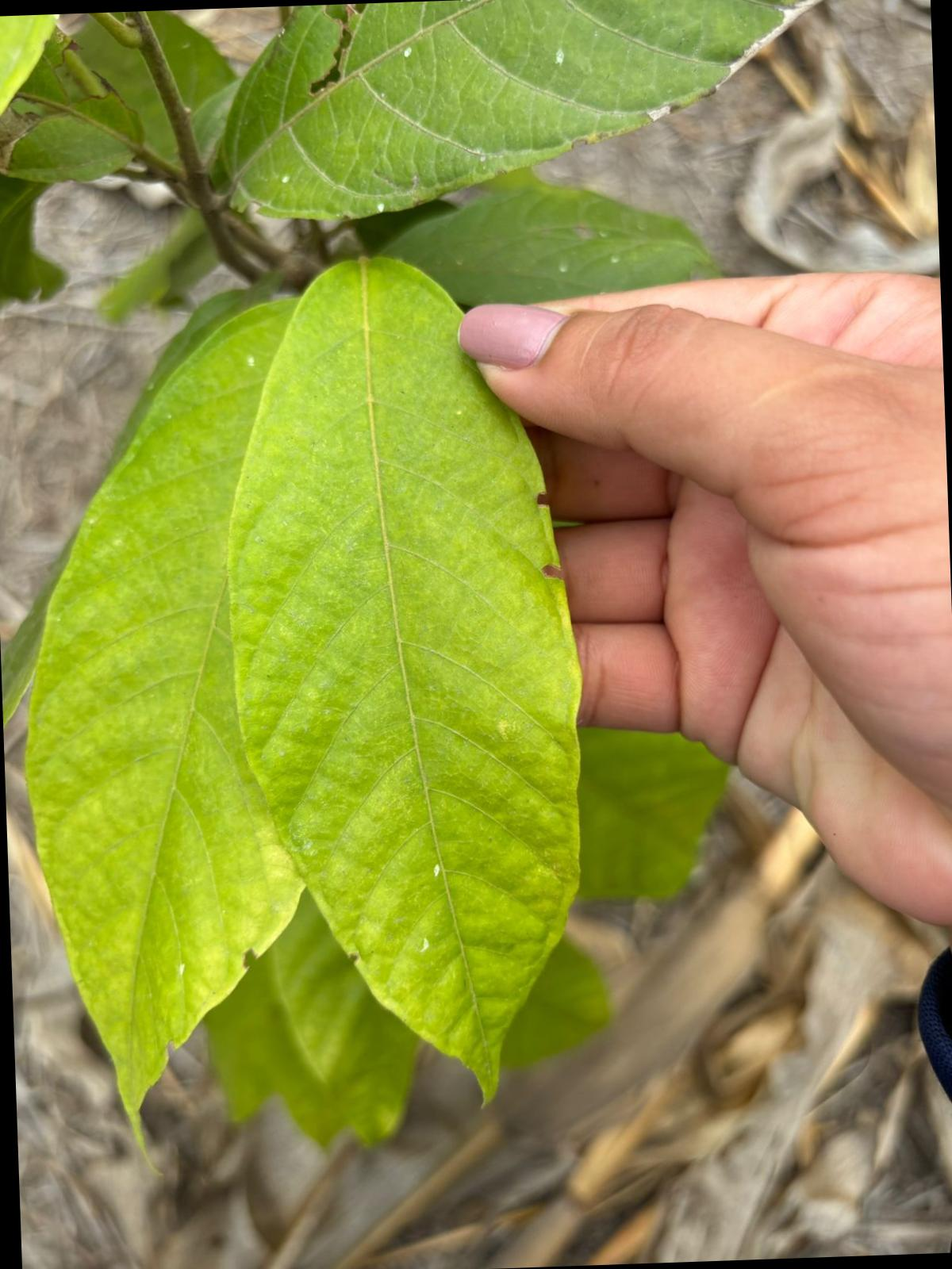Nitrogeno: (230, 260, 580, 1098), (27, 301, 301, 1138)
